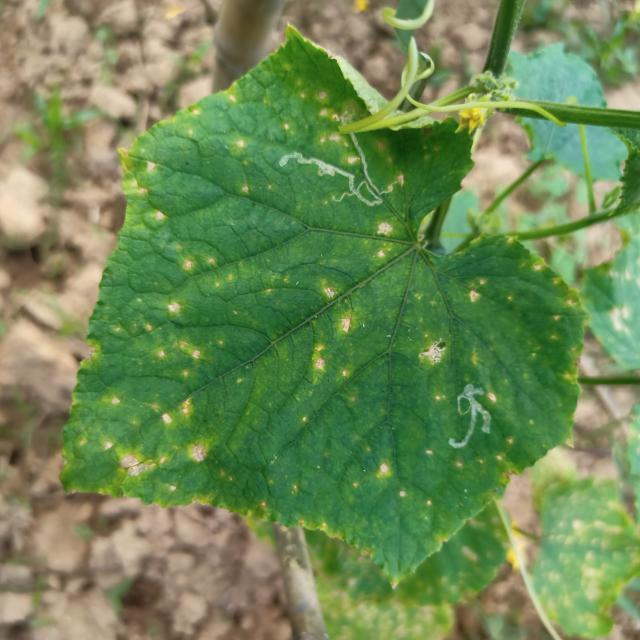disease_cucumber: (60, 158, 237, 497), (174, 56, 417, 196), (292, 219, 448, 403), (463, 234, 582, 422), (348, 431, 532, 525)
